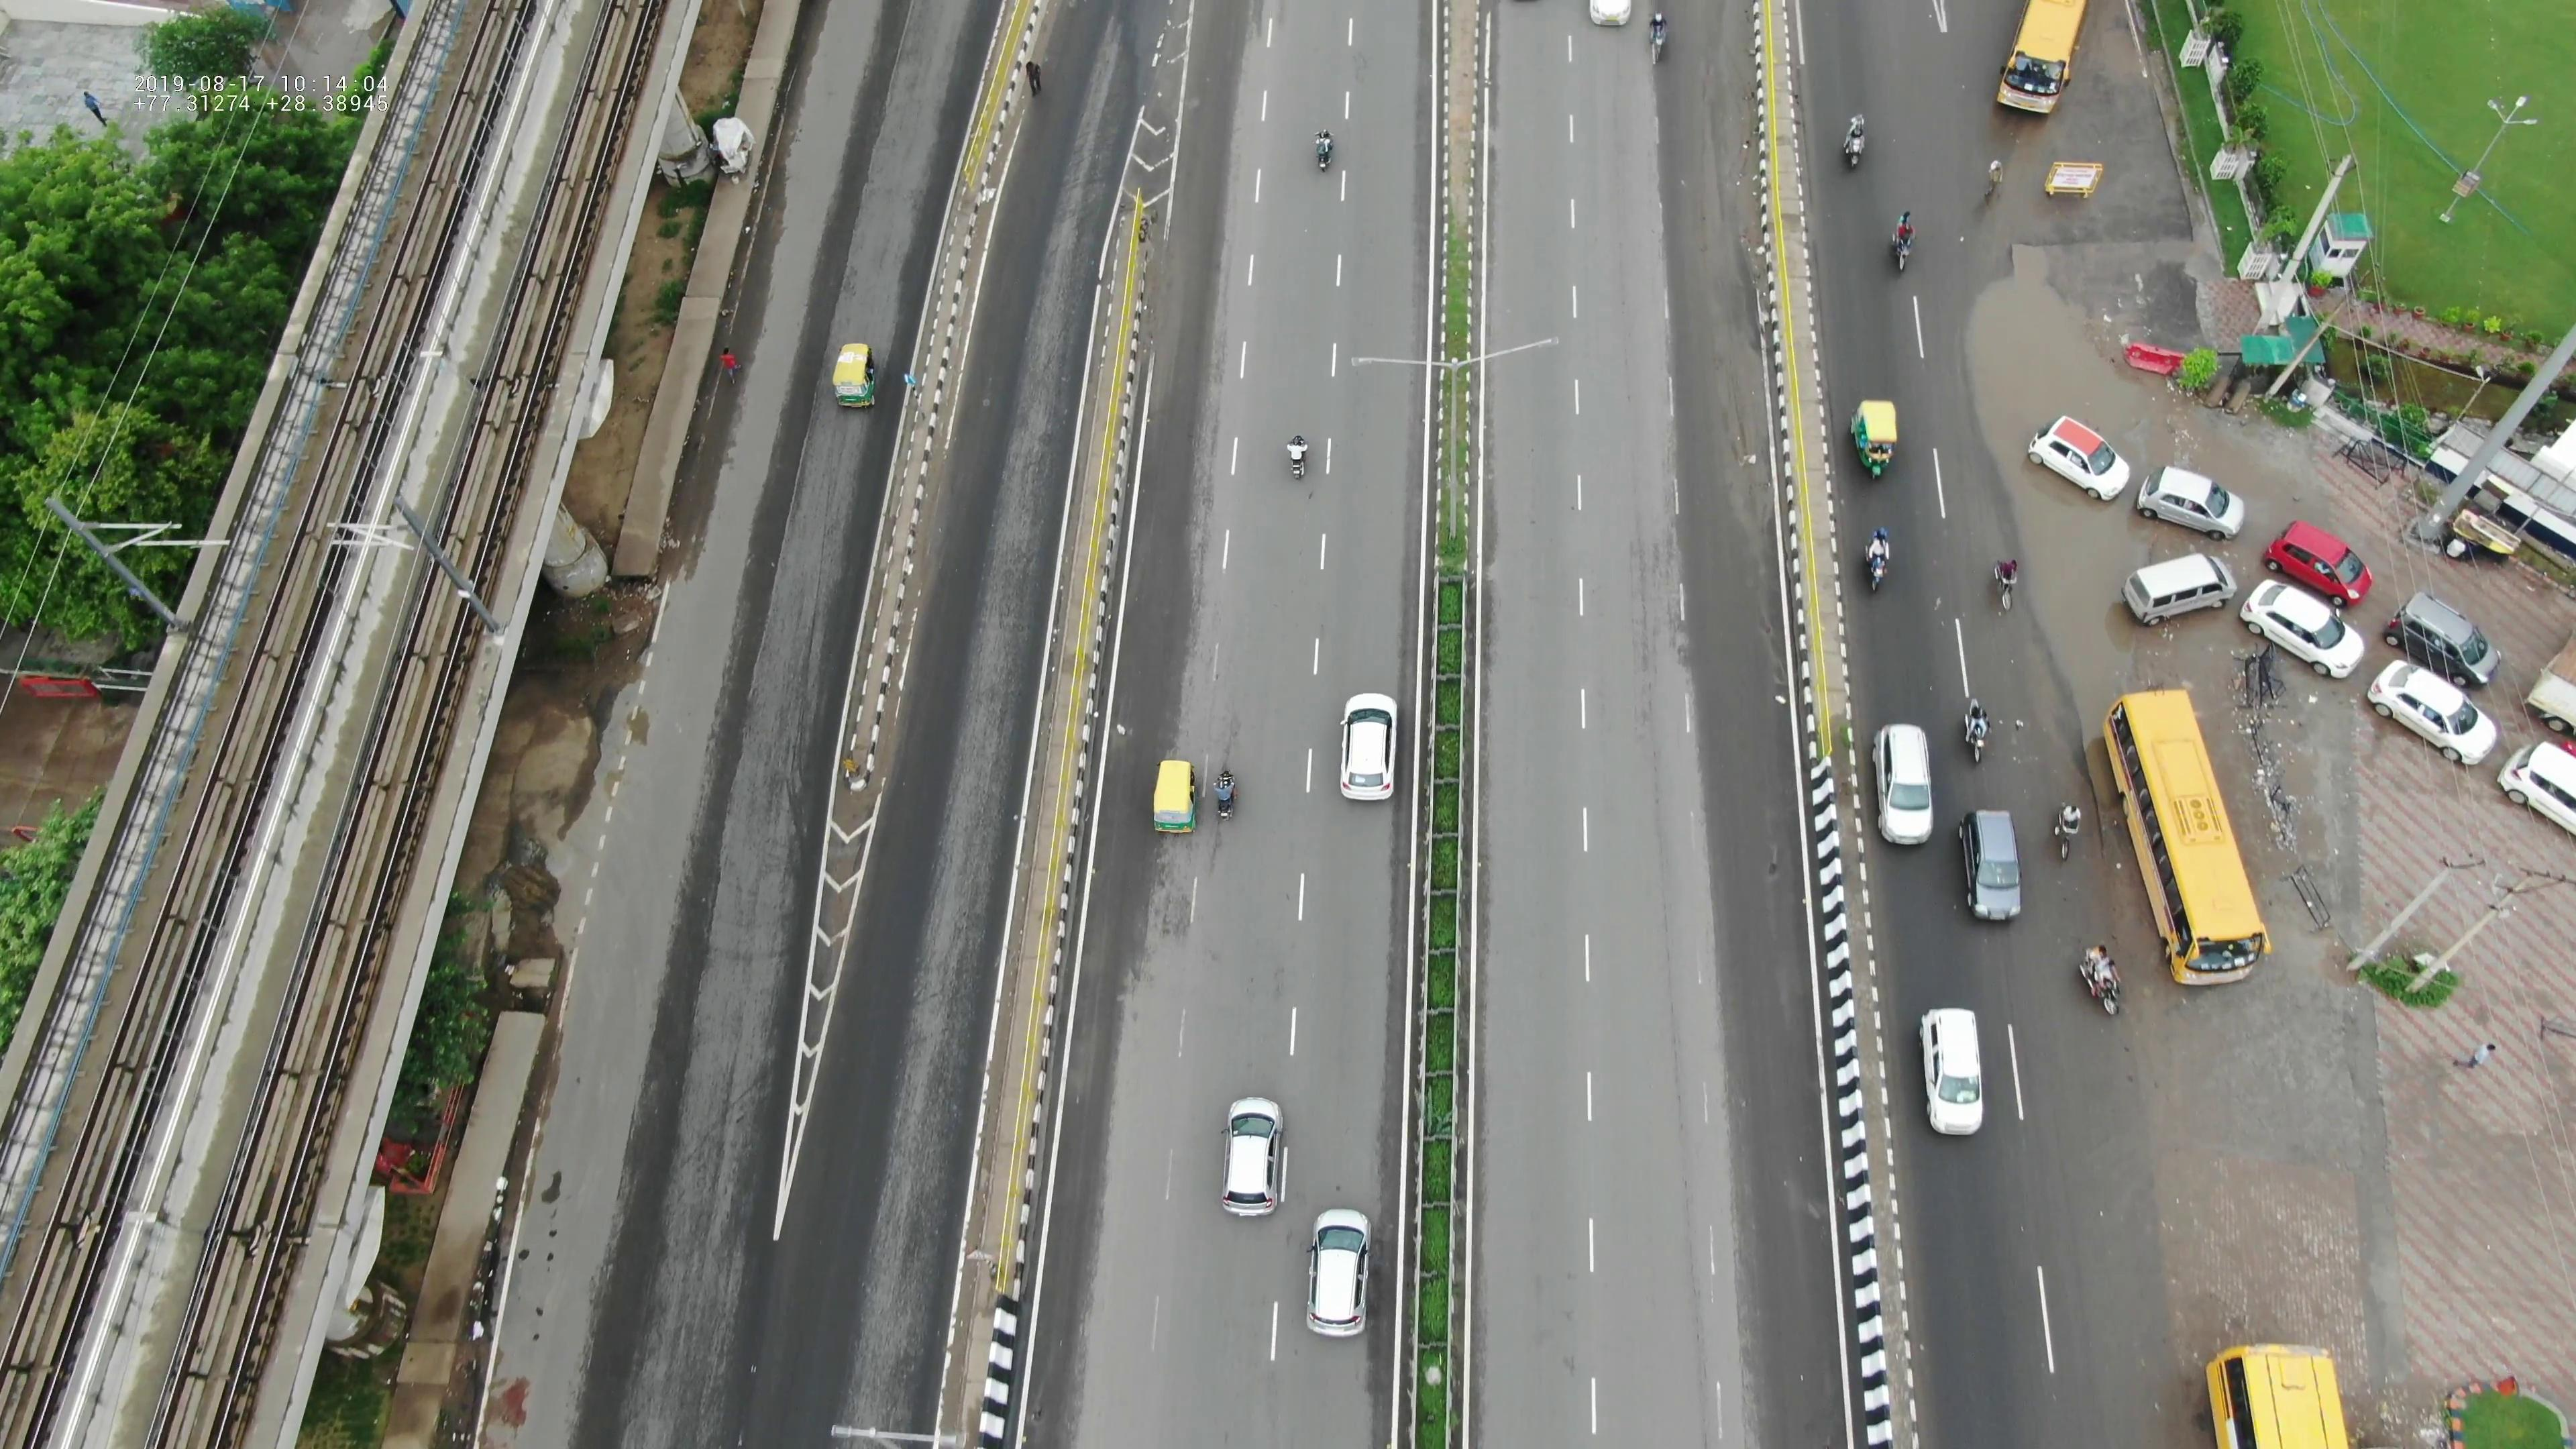Muddy_road: (1695, 99, 1773, 492)
Waterlogging: (1937, 242, 2107, 414)
